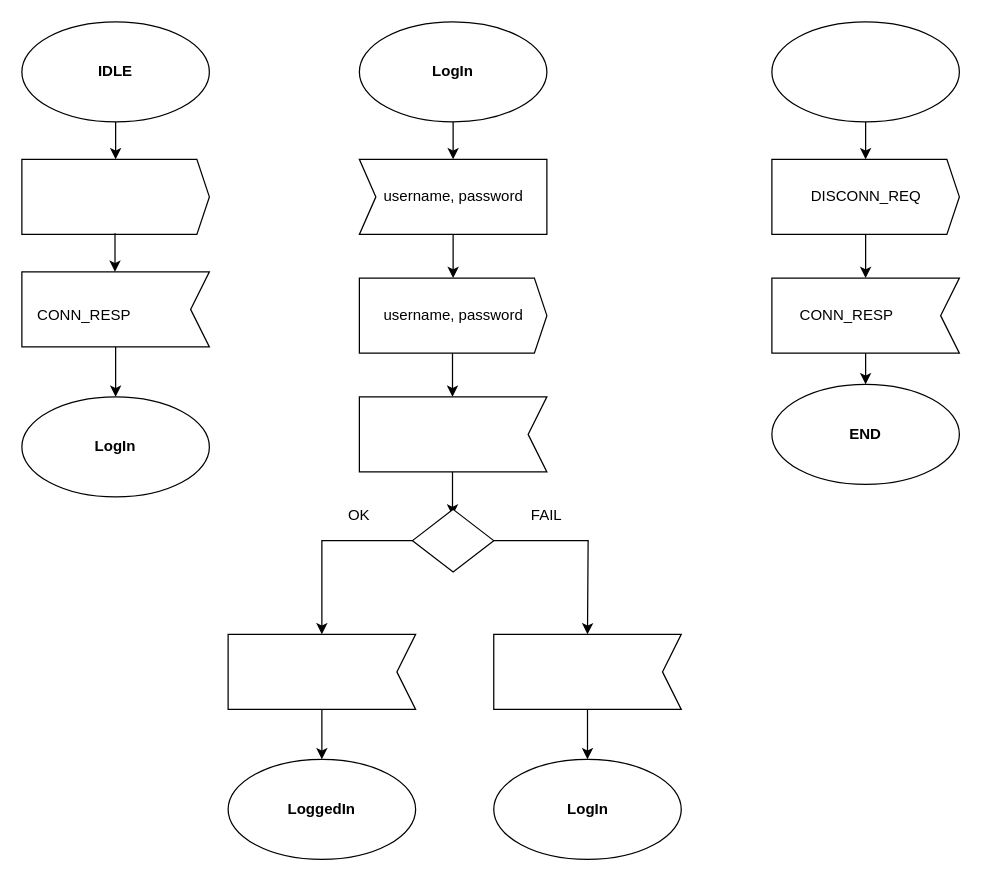
This 981x881 diagram has some shape labels left out. The centre of each missing label's shape, as x and y in pixels:
"CONN_REQ" belongs at (115,196).
"DISCONNECT" belongs at (865,71).
"mess_resp(fail)" belongs at (586,671).
"mess_resp(ok)" belongs at (321,671).
"username,password _response" belongs at (452,434).
